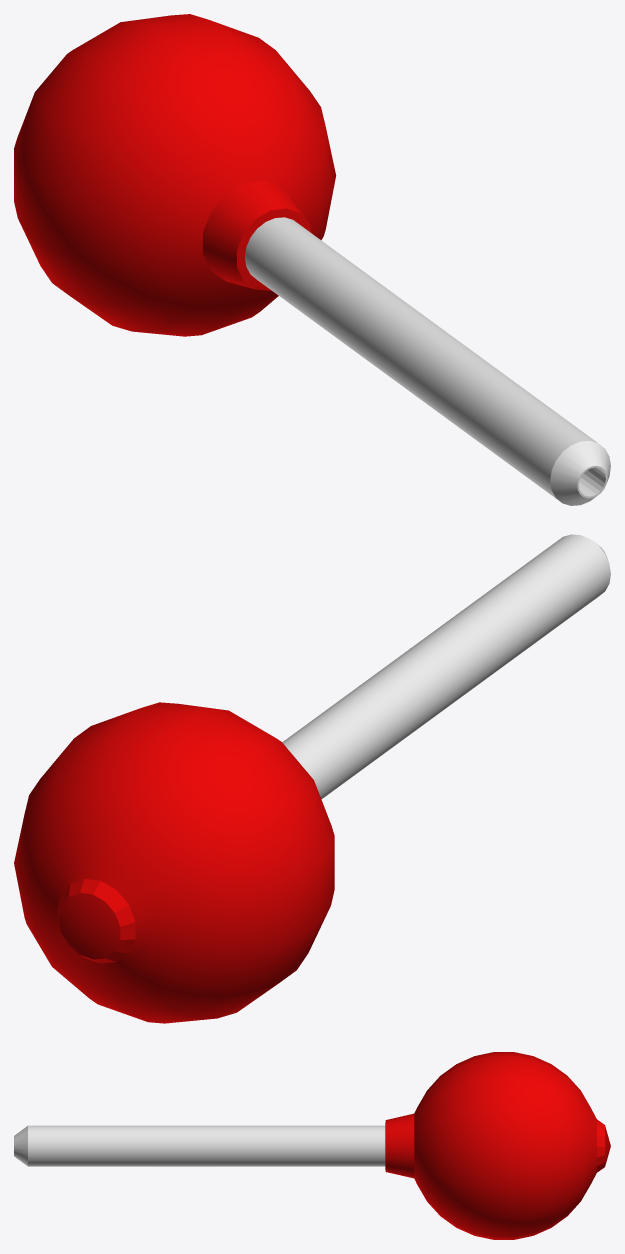
Rendered from Gun_01.fbx.
3 renders of one model, top to bottom at view 1: azimuth 30°, elevation 25°; view 2: azimuth 150°, elevation 25°; view 3: azimuth 270°, elevation 25°, orthographic. The views are drawn at different scales.
Visible parts, largest first — view 1: pSphere3; view 2: pSphere3; view 3: pSphere3.
Boxes of the visible parts, x1,y1,x2,y2 form: pSphere3: [14, 14, 610, 505]; pSphere3: [14, 534, 610, 1023]; pSphere3: [14, 1052, 610, 1239].
Bounding box in the file's own units: 34.29 × 34.48 × 109.
